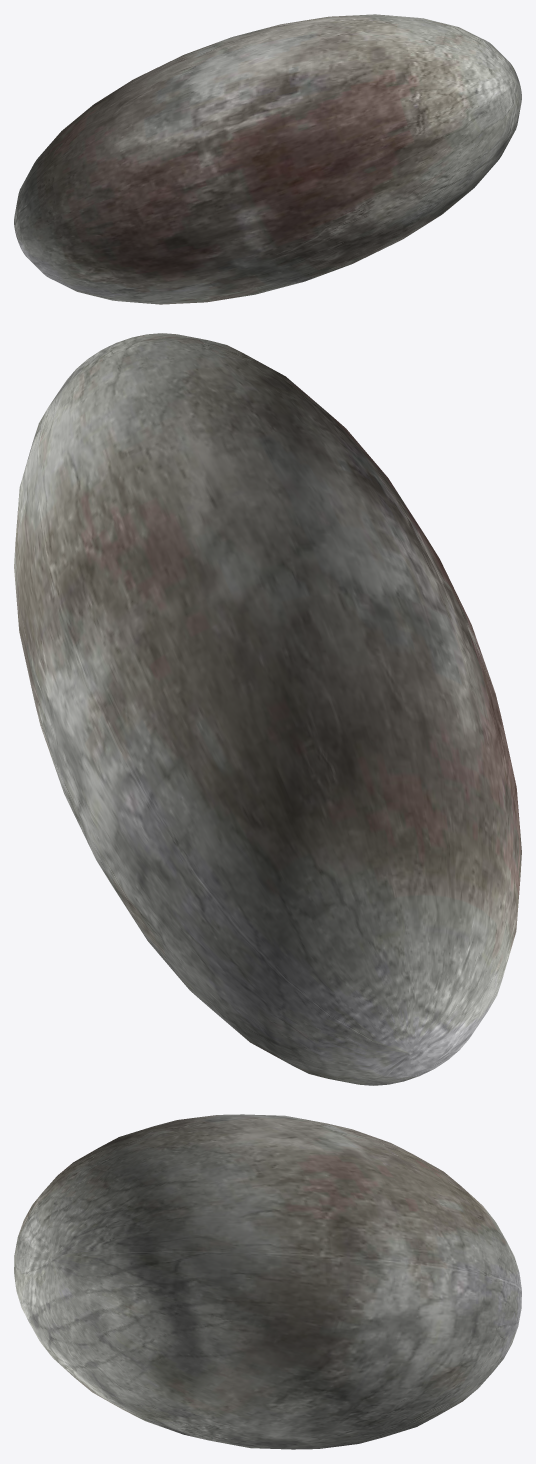
File: haumea.obj
3 views of the same model, one above another, from view 1: azimuth 30°, elevation 25°; view 2: azimuth 150°, elevation 25°; view 3: azimuth 270°, elevation 25° (orthographic). The views are drawn at different scales.
Parts seen in each view (by area): view 1: obj1; view 2: obj1; view 3: obj1.
Boxes of the visible parts, <box> form: obj1: <box>14,14,521,304</box>; obj1: <box>14,333,521,1085</box>; obj1: <box>14,1114,521,1449</box>.
Bounding box in the file's own units: 472 × 356 × 433.
